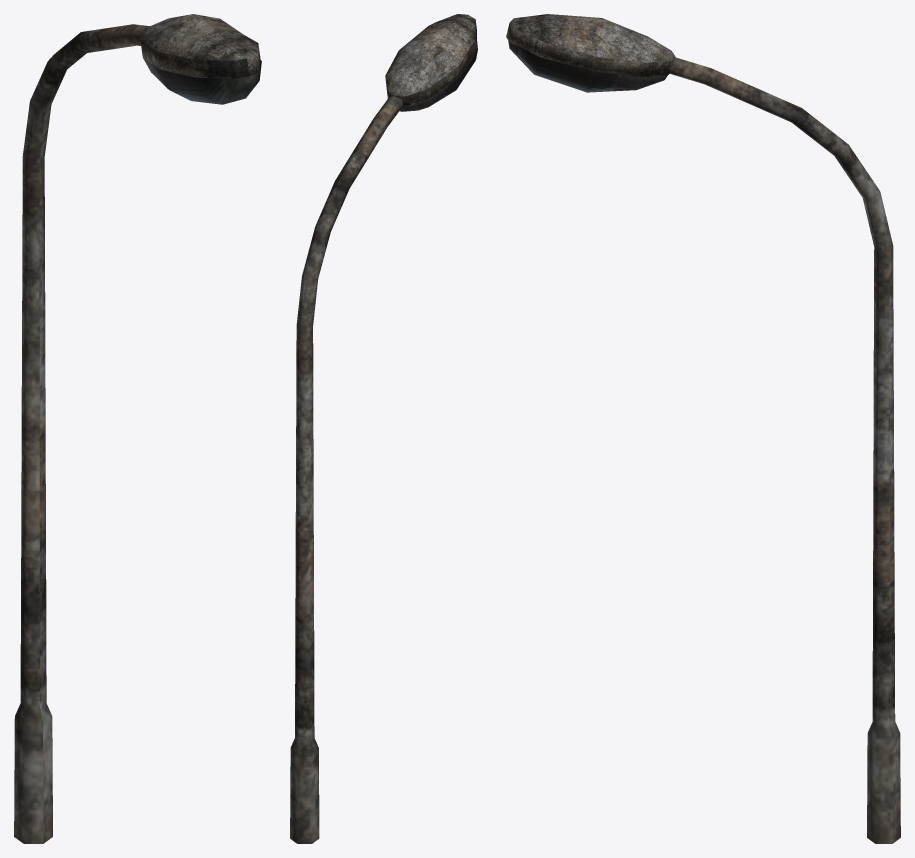
The model's file is StandRamp.fbx.
3 renders of one model, left to right at view 1: azimuth 30°, elevation 25°; view 2: azimuth 150°, elevation 25°; view 3: azimuth 270°, elevation 25°, orthographic. The views are drawn at different scales.
Visible parts, largest first — view 1: SMO_BG50_Sign_UTZ_0020_a; view 2: SMO_BG50_Sign_UTZ_0020_a; view 3: SMO_BG50_Sign_UTZ_0020_a.
Boxes of the visible parts, x1,y1,x2,y2 form: SMO_BG50_Sign_UTZ_0020_a: (14,14,261,843); SMO_BG50_Sign_UTZ_0020_a: (290,14,477,843); SMO_BG50_Sign_UTZ_0020_a: (506,14,900,843).
Size of the model in its own units: 80.84 by 915 by 399.
